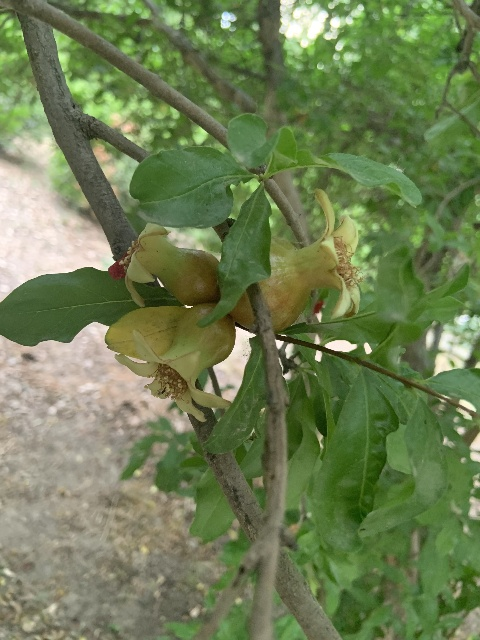early-fruit: (229, 185, 363, 333), (107, 303, 236, 423), (127, 227, 222, 308)
